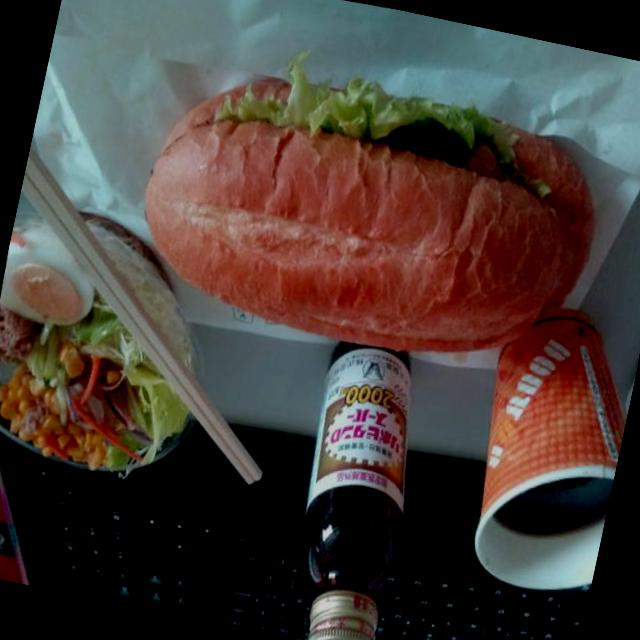Green Salad: (0, 294, 189, 496)
